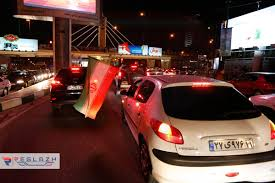car: (210, 137, 254, 152)
